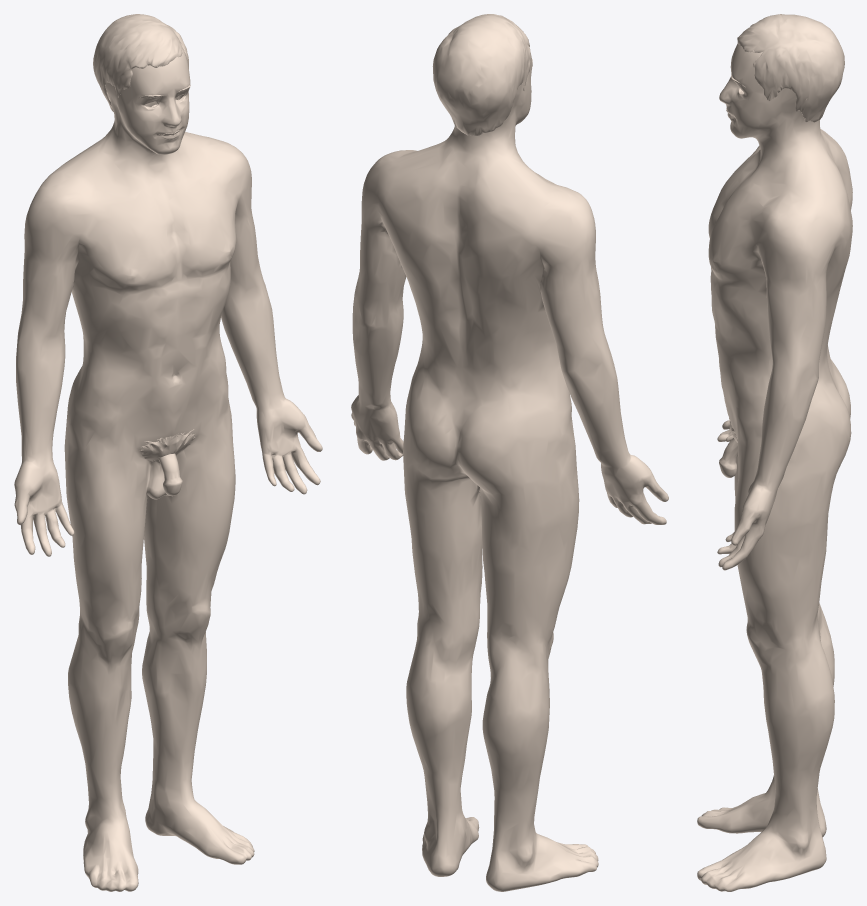
File: pele.glb
3 renders of one model, left to right at view 1: azimuth 30°, elevation 25°; view 2: azimuth 150°, elevation 25°; view 3: azimuth 270°, elevation 25°, orthographic. The views are drawn at different scales.
Visible parts, largest first — view 1: FJ2810, FJ2813, FJ2815; view 2: FJ2810, FJ2813; view 3: FJ2810, FJ2813.
Part boxes in pixels (x1=…): FJ2810: x1=14, y1=47, x2=322, y2=891; FJ2813: x1=93, y1=14, x2=188, y2=111; FJ2815: x1=140, y1=429, x2=195, y2=461; FJ2810: x1=351, y1=53, x2=668, y2=891; FJ2813: x1=432, y1=14, x2=530, y2=135; FJ2810: x1=697, y1=44, x2=852, y2=891; FJ2813: x1=737, y1=14, x2=844, y2=122.
Bounding box in the file's own units: 0.6668 × 1.73 × 0.292.
